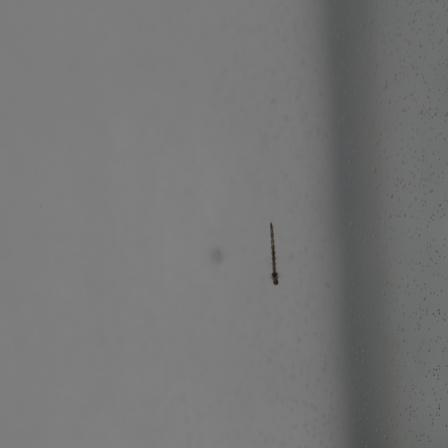Jentik-Nyamuk: (265, 214, 283, 288)
